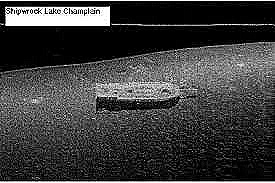ship: (93, 80, 199, 103)
